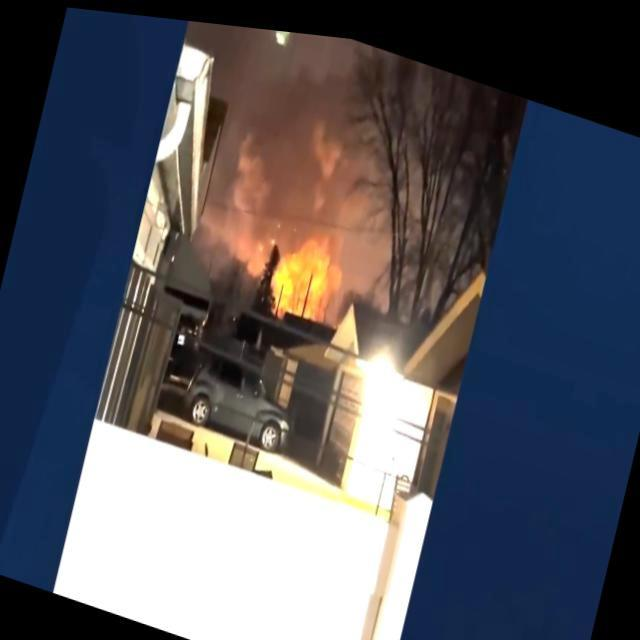fire: (264, 211, 348, 321)
